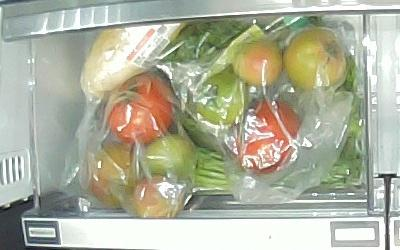tomato_vinyl: (105, 72, 176, 144), (234, 99, 300, 174), (284, 29, 346, 91), (89, 143, 142, 210), (197, 71, 246, 126), (233, 40, 283, 87), (134, 174, 183, 218), (145, 134, 195, 176)
